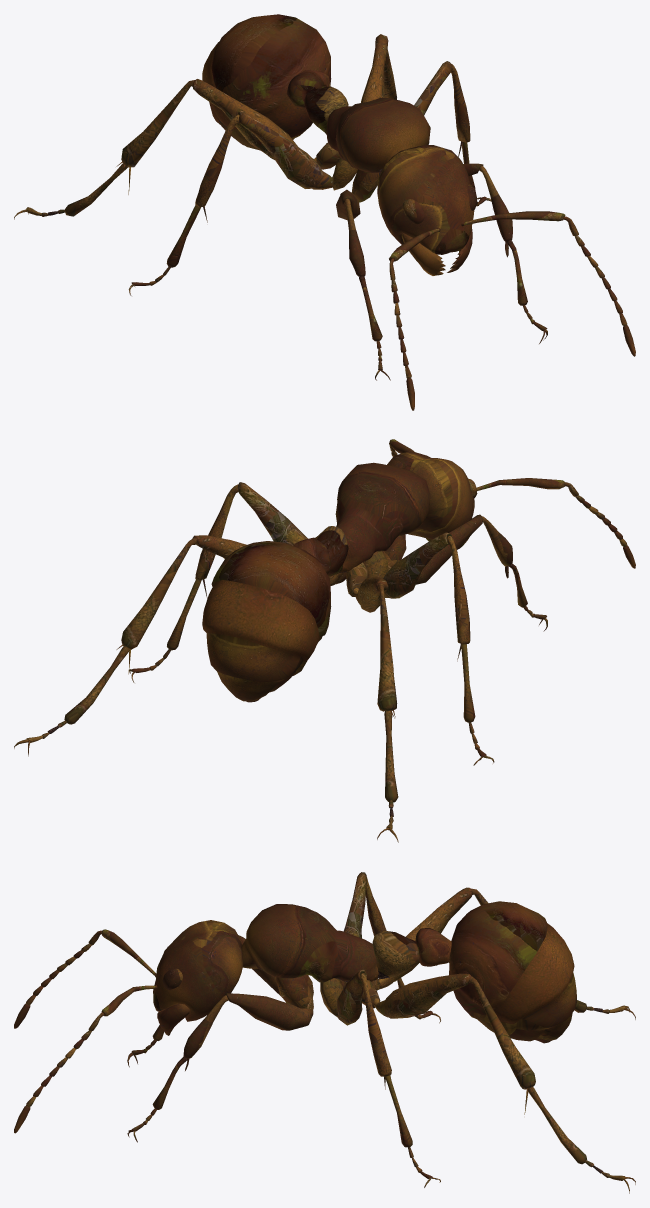
File: ant.obj
3 renders of one model, top to bottom at view 1: azimuth 30°, elevation 25°; view 2: azimuth 150°, elevation 25°; view 3: azimuth 270°, elevation 25°, orthographic. The views are drawn at different scales.
Visible parts, largest first — view 1: gaster, head, thorax, femurR2, petiole, femurR3, tibiaR3, femurR1, tibiaR2, femurL3, funiculusL, tibiaL2 (+10 smaller); view 2: gaster, thorax, head, femurR2, tibiaL3, femurL2, tibiaR3, femurR1, petiole, femurR3, tibiaR2, tarsusL3 (+8 smaller); view 3: gaster, thorax, head, petiole, femurL1, femurL3, femurL2, tibiaL3, femurR3, tibiaL2, tarsusL3, femurR2 (+8 smaller).
Boxes of the visible parts, x1,y1,x2,y2 form: gaster: (202, 14, 331, 150); head: (377, 145, 477, 254); thorax: (326, 98, 430, 172); femurR2: (237, 112, 357, 190); petiole: (286, 70, 348, 134); femurR3: (192, 79, 340, 169); tibiaR3: (116, 80, 194, 194); femurR1: (336, 169, 380, 220); tibiaR2: (195, 114, 239, 222); femurL3: (361, 34, 388, 102); funiculusL: (563, 216, 635, 356); tibiaL2: (451, 64, 470, 156); gaster: (202, 541, 331, 702); thorax: (335, 462, 430, 572); head: (387, 451, 477, 539); femurR2: (363, 532, 452, 598); tibiaL3: (116, 537, 197, 674); femurL2: (237, 482, 346, 584); tibiaR3: (377, 583, 397, 737); femurR1: (382, 514, 483, 584); petiole: (293, 526, 348, 576); femurR3: (346, 562, 388, 612); tibiaR2: (447, 536, 470, 661); tarsusL3: (14, 646, 129, 756); gaster: (449, 901, 576, 1043); thorax: (241, 904, 378, 982); head: (153, 920, 243, 1021); petiole: (372, 927, 451, 978); femurL1: (225, 975, 313, 1030); femurL3: (361, 973, 470, 1018); femurL2: (320, 969, 366, 1025); tibiaL3: (469, 976, 535, 1114); femurR3: (371, 887, 472, 990); tibiaL2: (360, 973, 391, 1089); tarsusL3: (527, 1087, 635, 1193); femurR2: (339, 872, 366, 987).
Size of the model in its own units: 4.34 by 2.19 by 6.3.
1 material, 1 textured.
